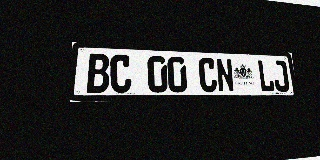0: (147, 56, 168, 93), (167, 56, 187, 93)
B: (86, 53, 110, 93)
C: (110, 54, 131, 93), (198, 58, 218, 92)
J: (272, 60, 290, 92)
L: (257, 60, 275, 92)
N: (216, 58, 235, 92)
